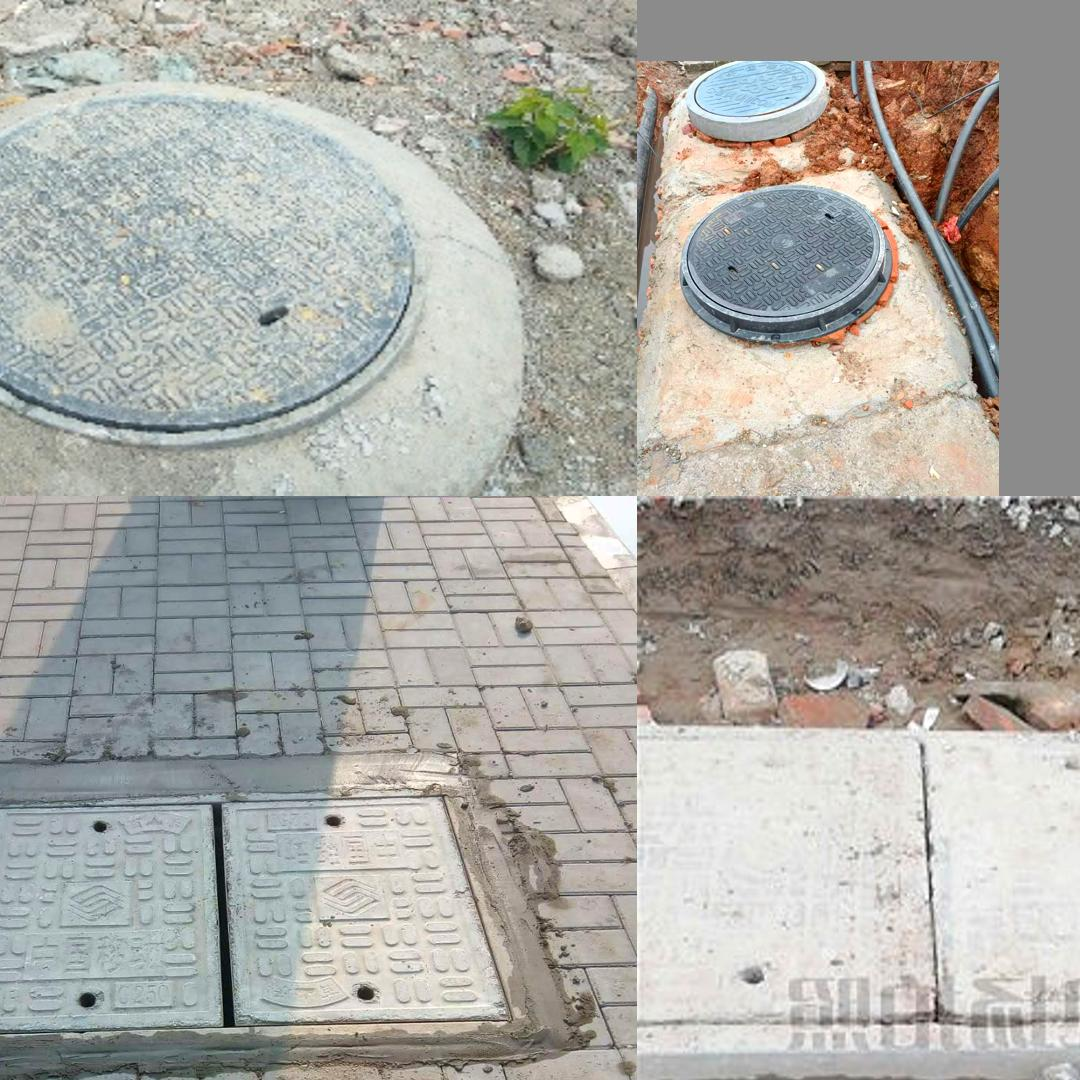good: (637, 723, 1080, 1079), (0, 95, 424, 451), (0, 791, 528, 1037), (678, 185, 892, 343), (686, 61, 824, 121)
